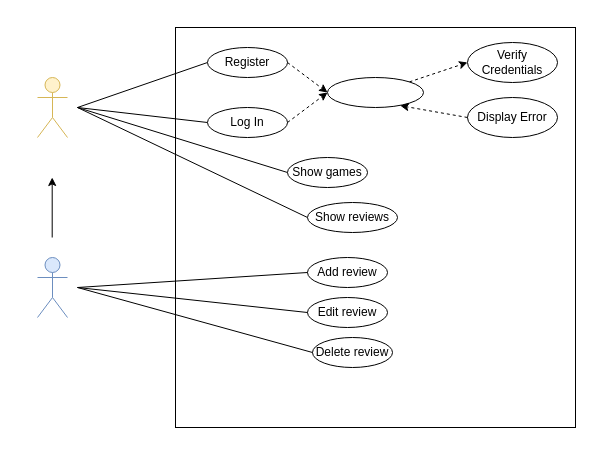
Some shapes in this 605 by 455 pixel diagram are drawn without their labels. The shapes that lost their labels are listed below. From the top down, each one's box as (x1, y1, x2, y2) in pixels, then its label:
(36, 76, 68, 138): Web User
(326, 76, 424, 108): Validate Data
(36, 256, 68, 318): Web User (Logged)
